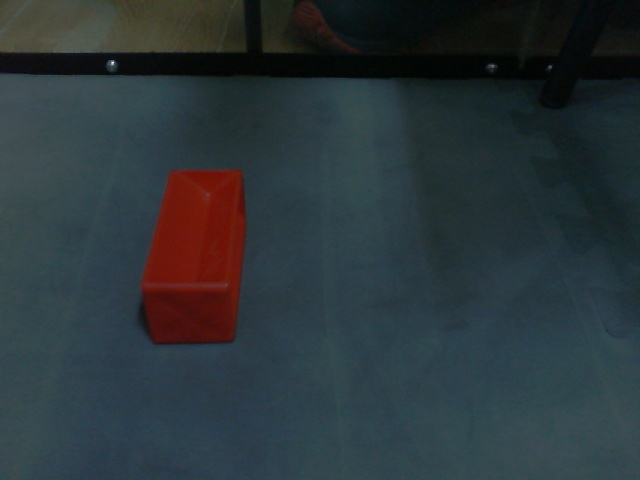RedSample: (139, 166, 247, 347)
